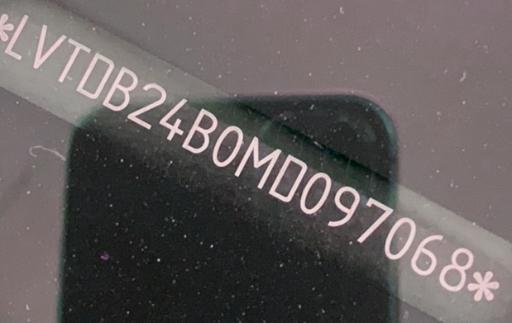letter: (232, 133, 284, 190), (126, 80, 168, 131), (266, 153, 308, 202), (74, 50, 116, 99), (354, 194, 394, 245), (179, 108, 219, 155), (56, 36, 92, 87), (102, 66, 138, 114), (438, 244, 474, 292), (32, 22, 68, 69), (298, 169, 334, 215), (210, 123, 244, 168), (327, 185, 361, 228), (382, 218, 416, 261), (409, 234, 443, 277), (158, 93, 186, 141), (4, 11, 30, 61)
